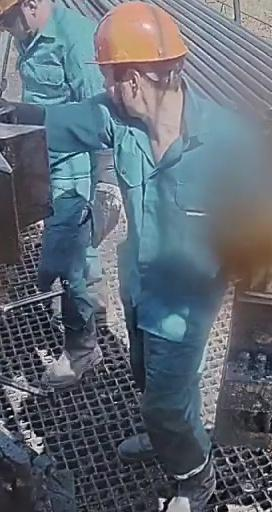gloves: (76, 177, 123, 248)
goggles: (1, 8, 24, 32)
helmet: (83, 0, 188, 67), (0, 0, 18, 12)
vest: (108, 101, 230, 342)
